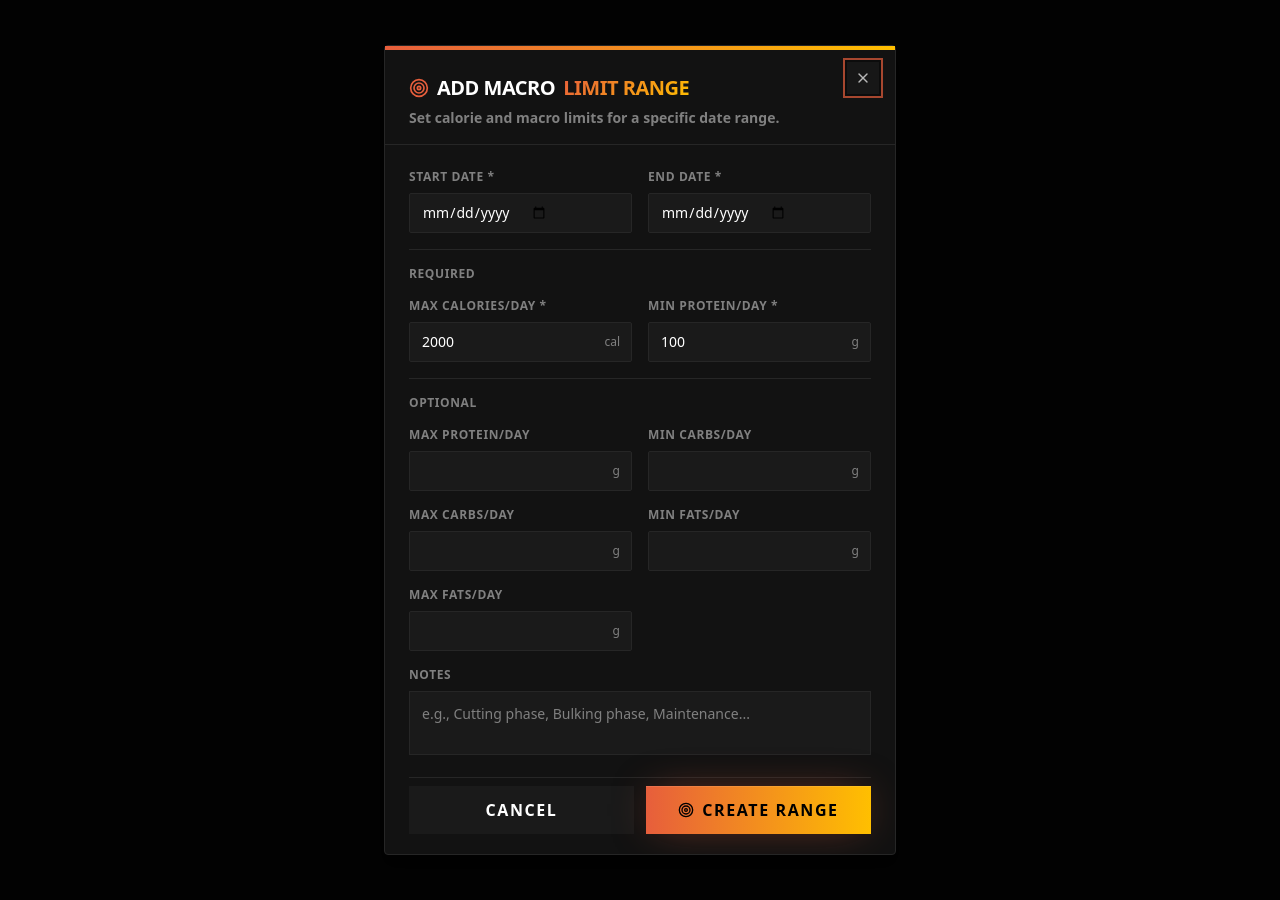
it: AddLimitRangeModal › Form Validation › shows error when end date is empty
Fill in required fields except end date
Type "2026-02-01" into the date field labelled "Start Date *" at x=520, y=213, box [409,193,632,233]
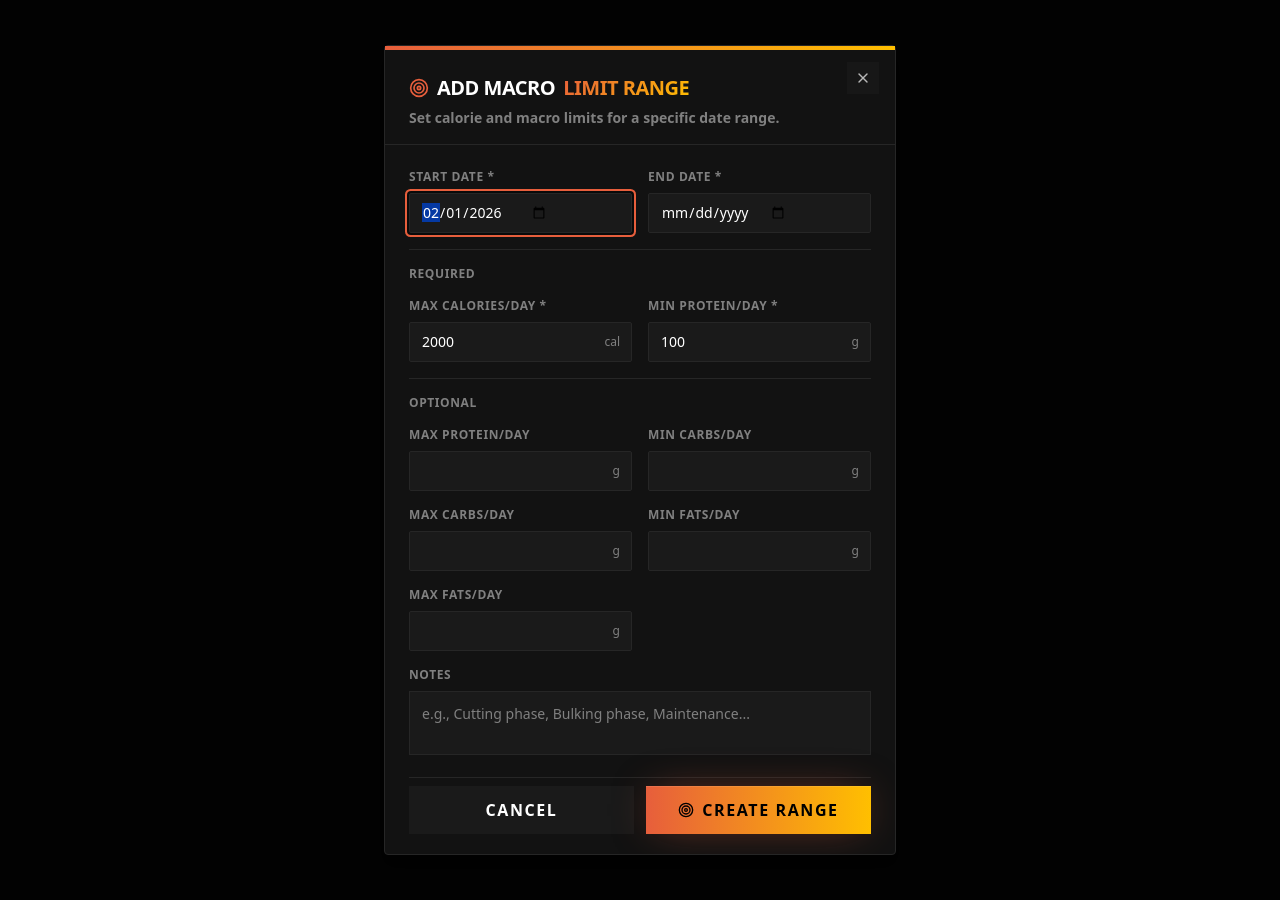
Click the button "Create Range" at x=758, y=810, box [646,786,871,834]
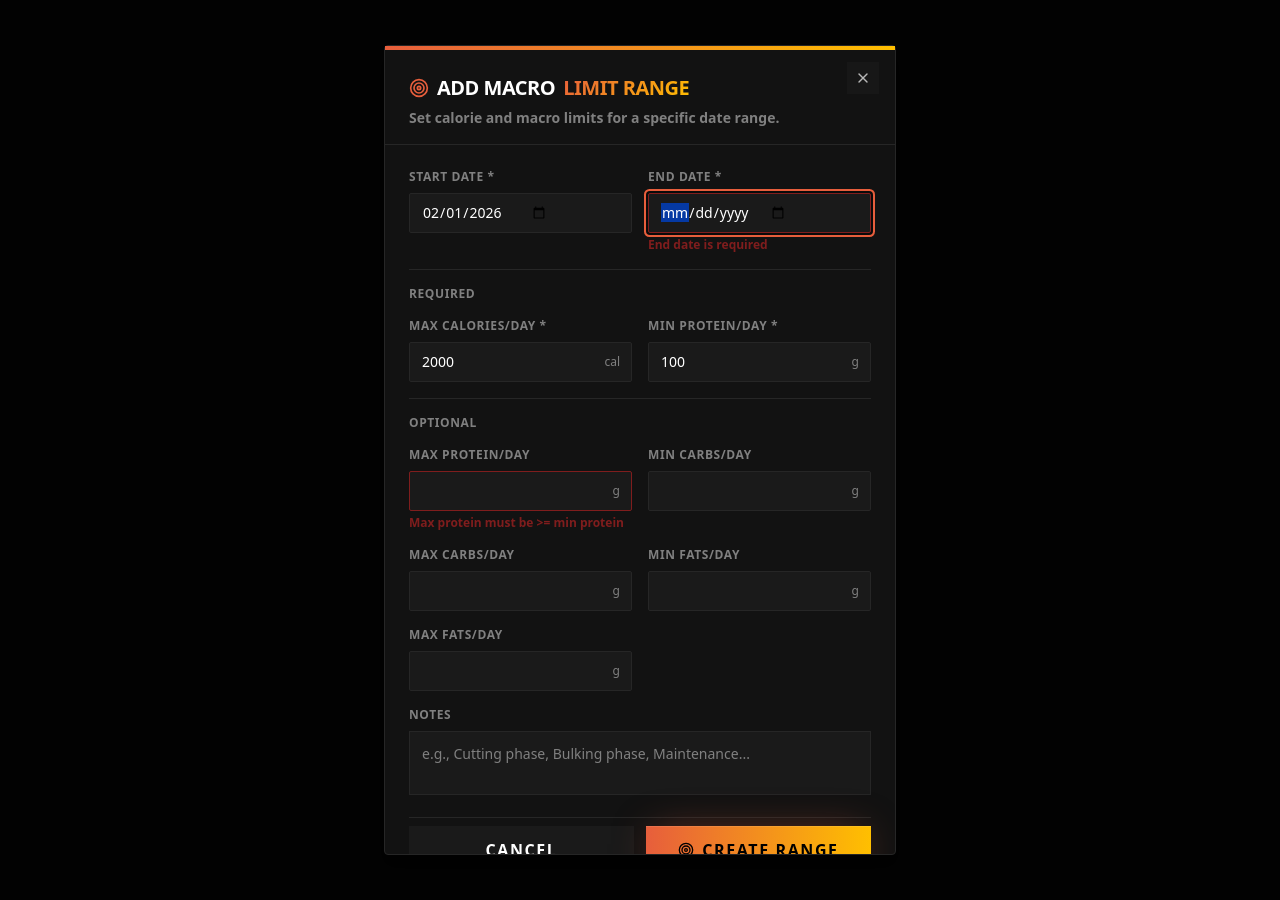
Check: the text "End date is required" is shown, box [648,236,768,253]
